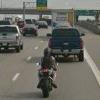Motorcycle: (31, 46, 61, 97)
